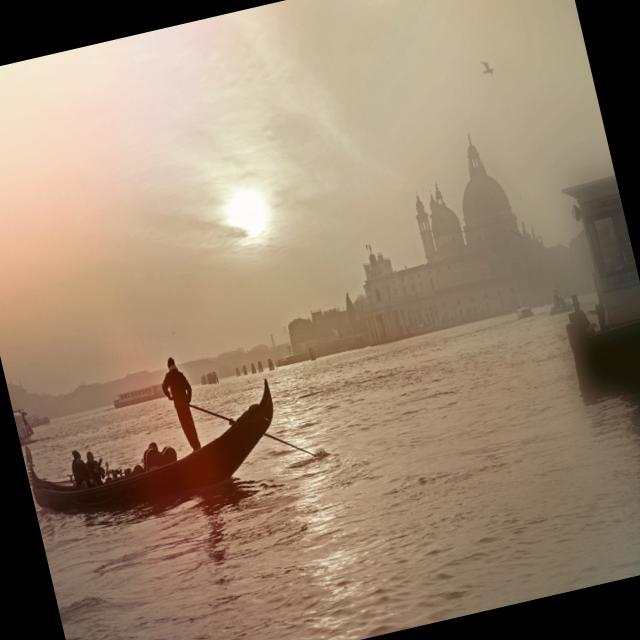boat: (13, 352, 315, 560)
